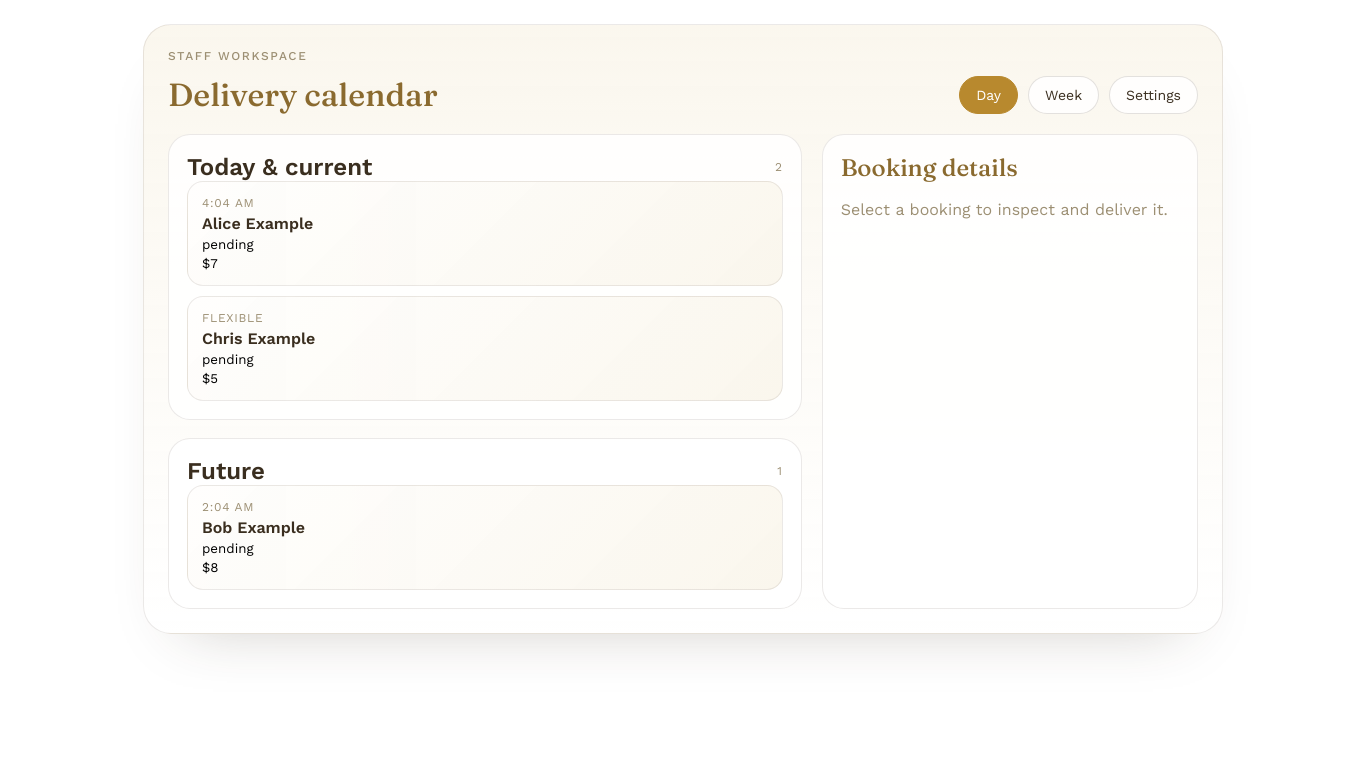
Test case: StaffBookings workspace › renders the week tab with grouped bookings
Click the button "Week".
click(1064, 95)  # box [1028,76,1099,114]
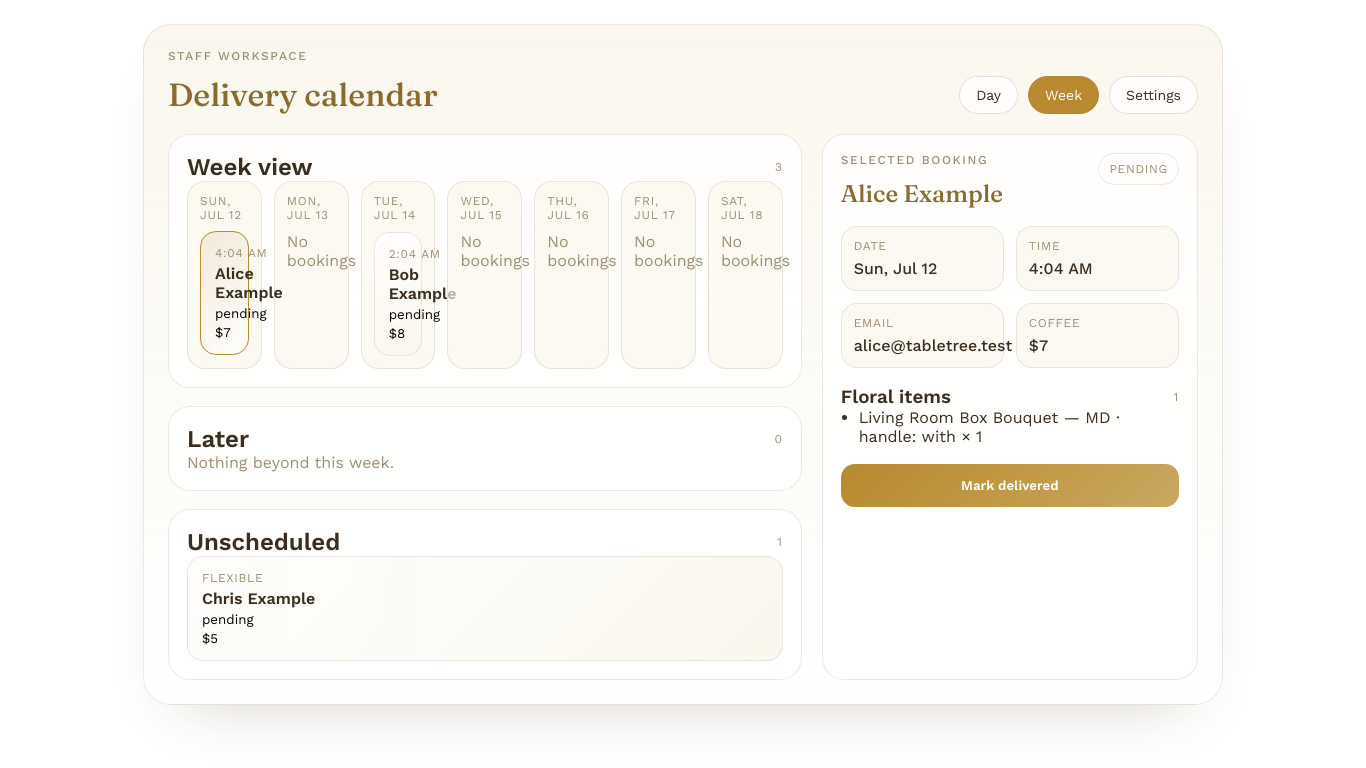
Now the heading "Week view" is shown, box [187,153,313,181]
Now the heading "Later" is shown, box [187,425,249,453]
Now the heading "Unscheduled" is shown, box [187,528,340,556]
